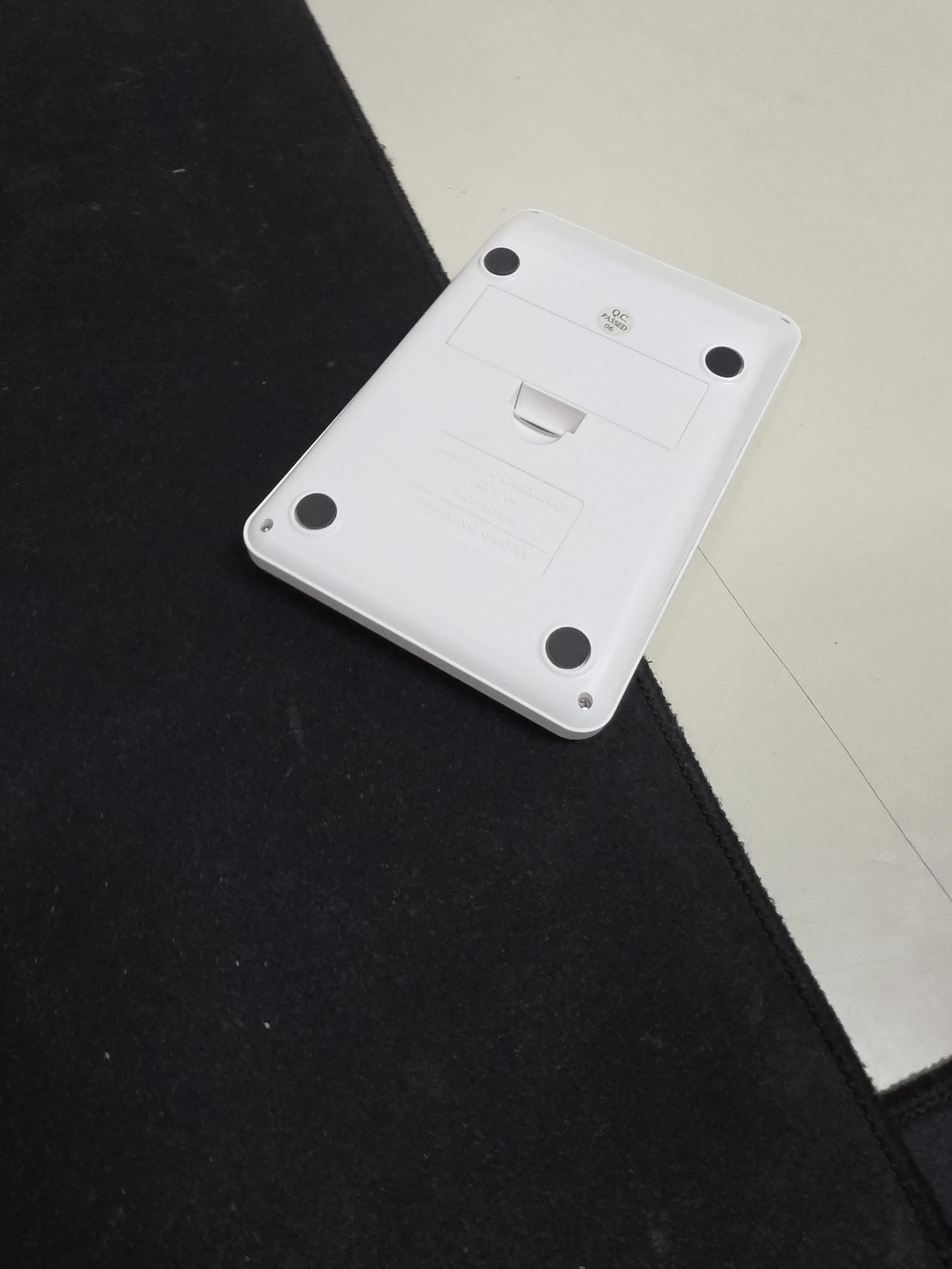calculator: (242, 209, 803, 739)
